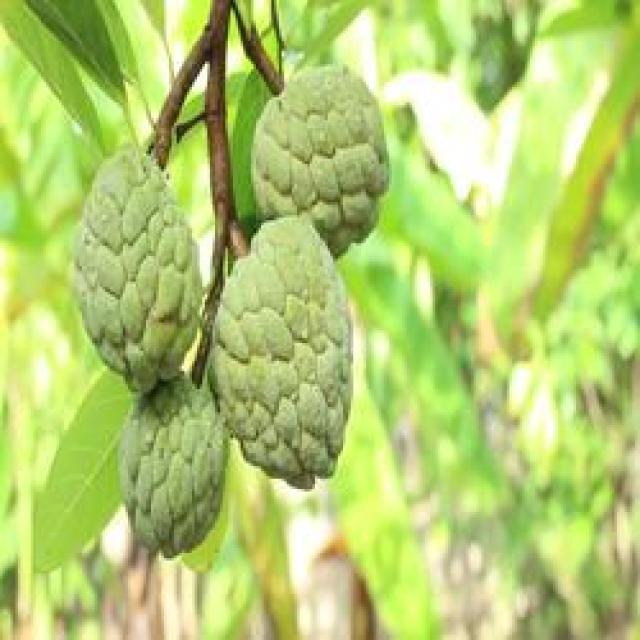apple: (205, 207, 361, 494), (69, 138, 207, 389), (246, 59, 389, 253), (100, 376, 233, 558)
